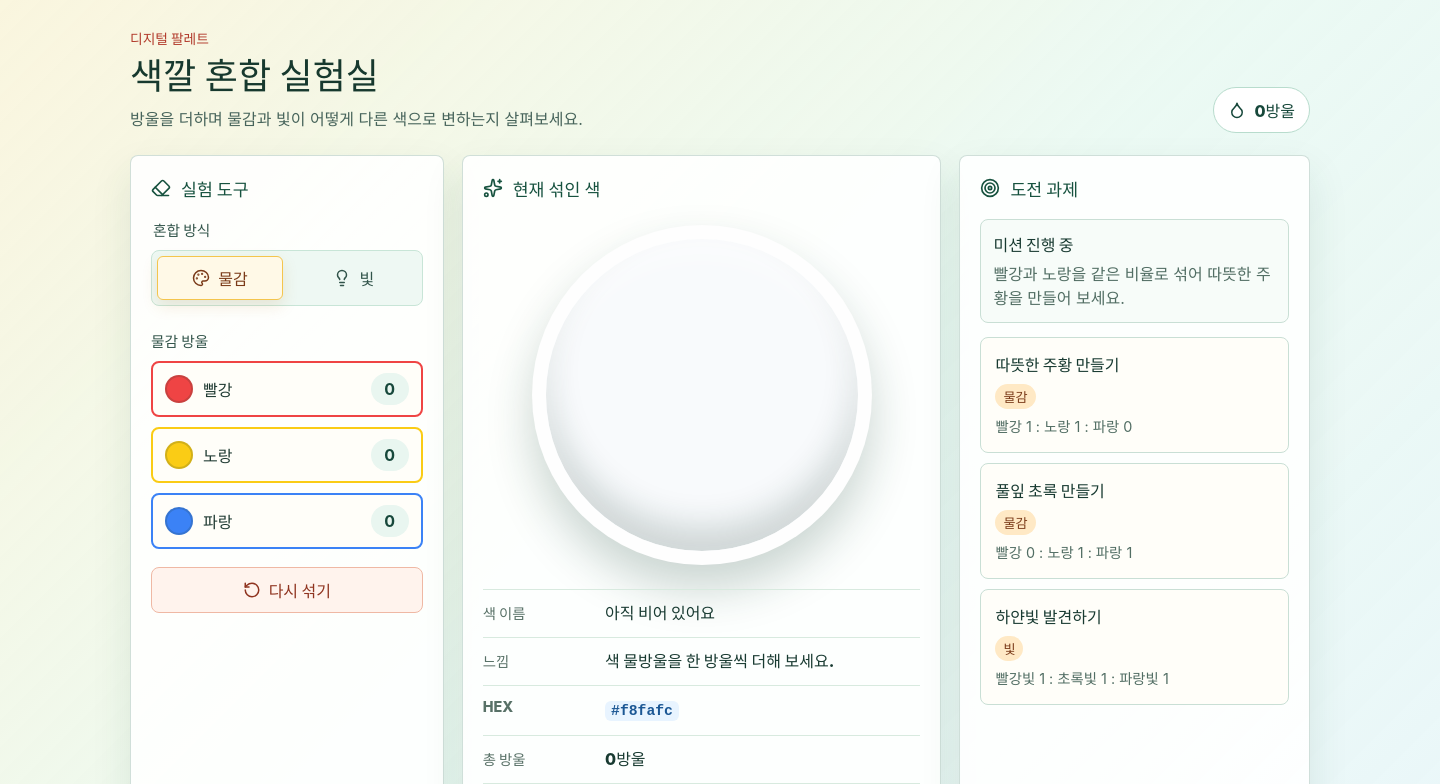
Test: App › updates the paint mixture when students add red and yellow drops
The width and height of the screenshot is (1440, 784).
Click the button with aria-label "빨강 한 방울 추가": [390, 389] box [151,361,423,417]
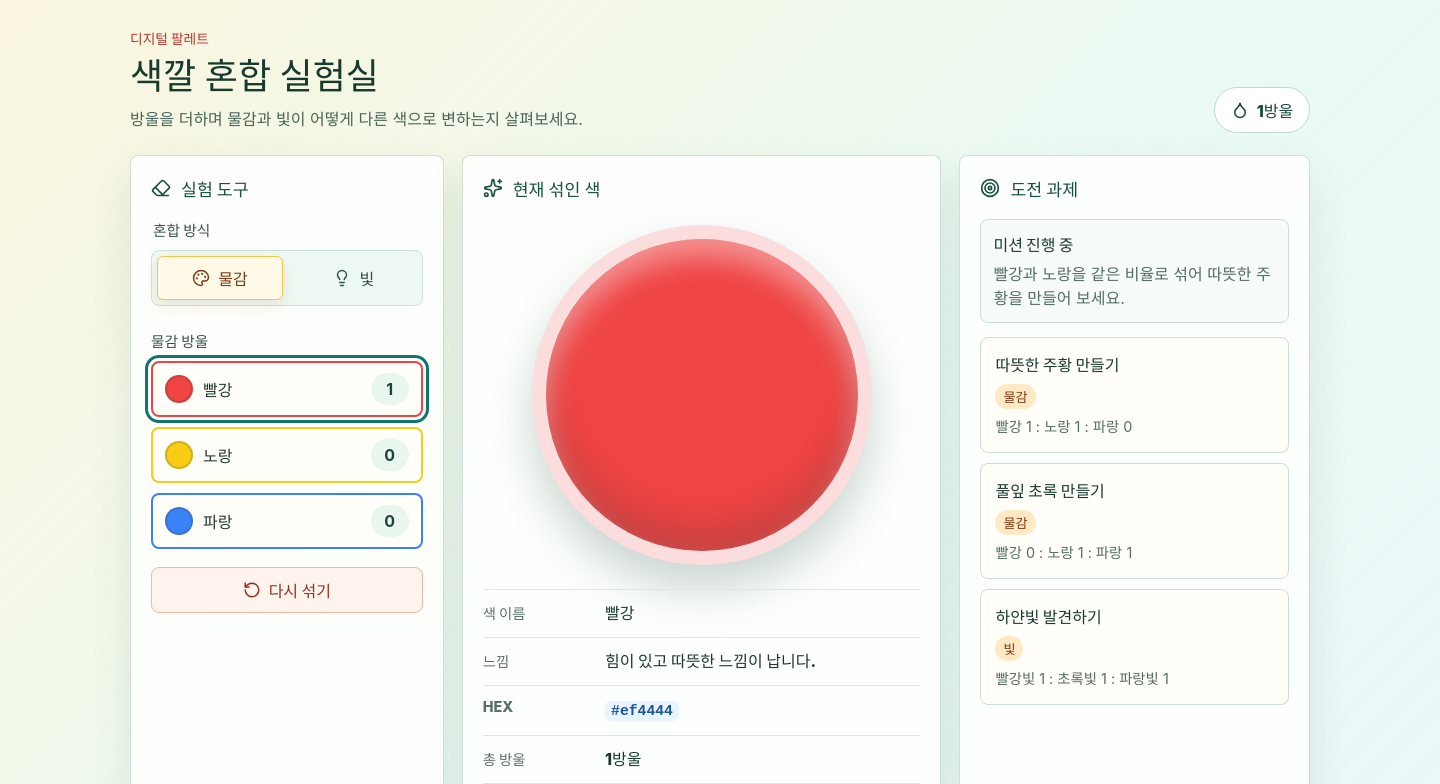
Click the button with aria-label "노랑 한 방울 추가": [390, 455] box [151,427,423,483]
(page scrolled)
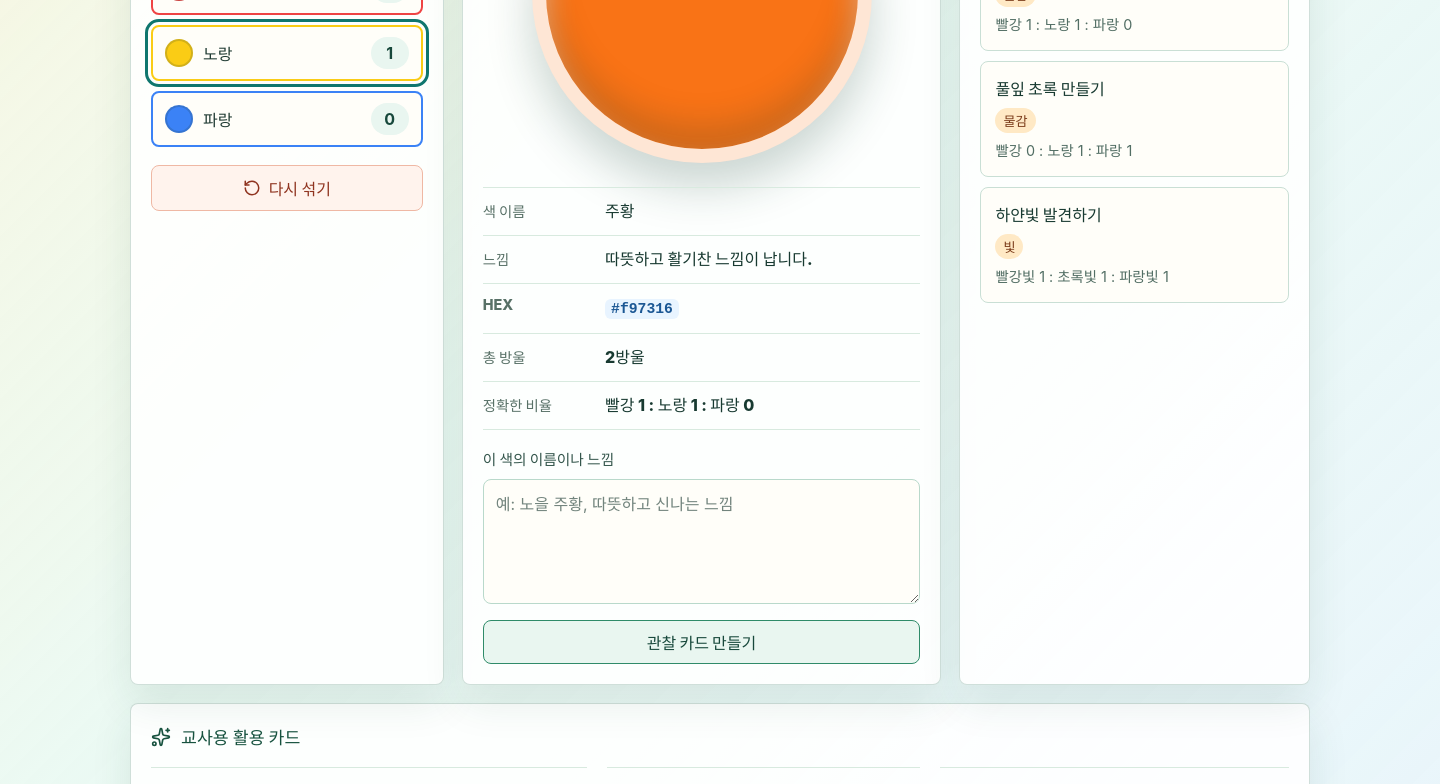
expect the text "주황" is shown: met, box [605,201,634,221]
expect the text "빨강 1 : 노랑 1 : 파랑 0" next to "정확한 비율" is shown: met, box [605,395,754,415]
